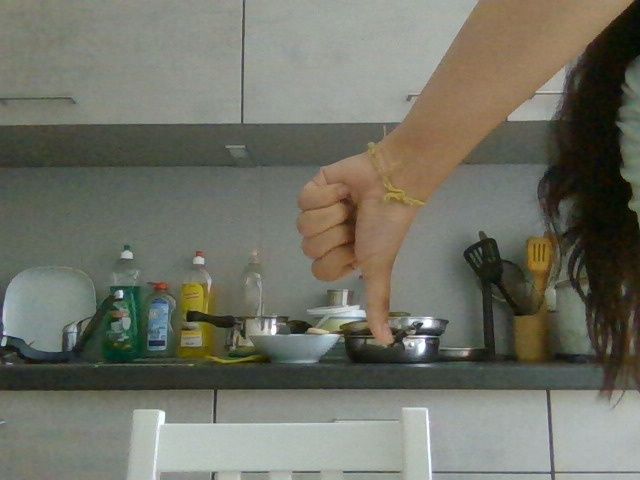Thumbs down: (279, 143, 424, 345)
